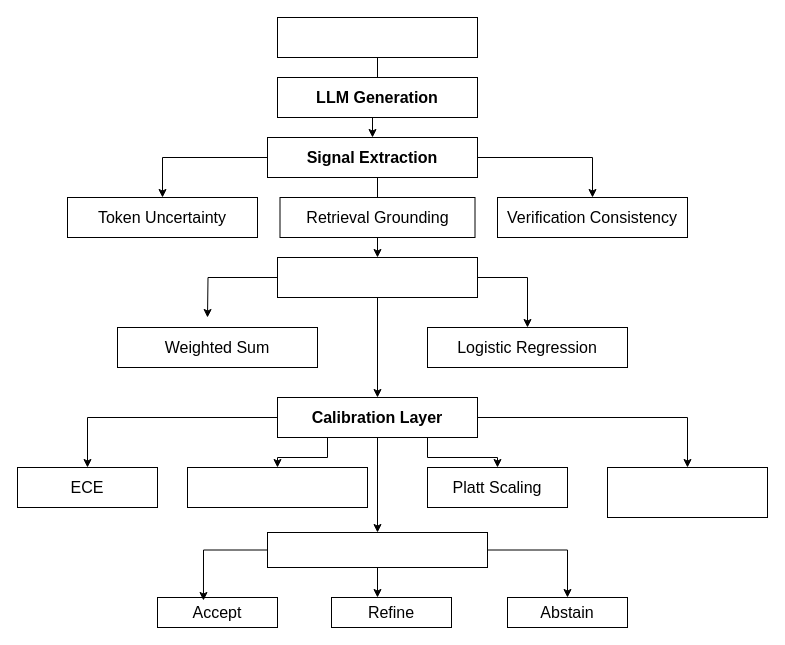
Image size: 785x645. Some labels were removed from this diagram. The shapes that lost their labels are listed below. From the top down, each one's centre as x and y in pixels, then its label:
(377,37): User Query
(377,277): Confidence Aggregation
(277,487): Reliability Diagrams
(687,492): Isotonic Regression
(377,550): Decision Framework
